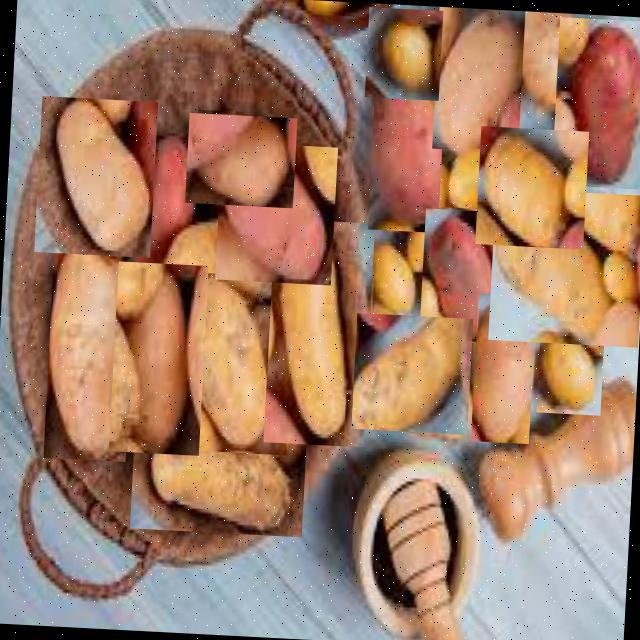Defected potato: (214, 140, 338, 284), (550, 16, 640, 189), (367, 74, 458, 232), (115, 135, 206, 282), (418, 208, 503, 344)
Potato: (262, 218, 374, 447), (487, 186, 640, 347), (163, 270, 296, 454), (42, 225, 137, 461), (33, 95, 157, 258), (129, 426, 306, 536), (108, 260, 208, 454), (350, 312, 472, 434), (474, 125, 588, 248), (431, 6, 525, 152), (184, 111, 297, 208), (470, 292, 536, 443), (363, 6, 443, 100), (536, 325, 604, 415), (438, 143, 509, 210)
